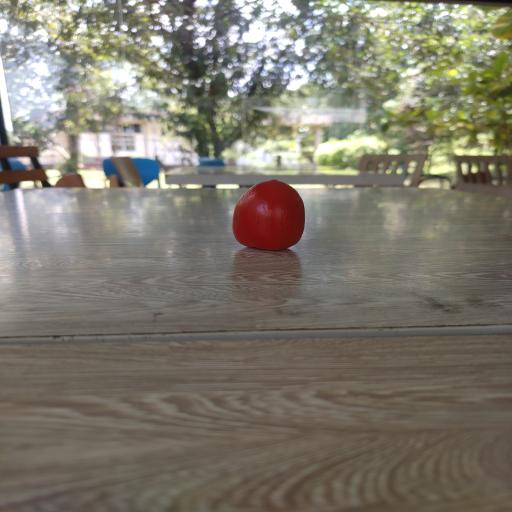spoiled: (232, 180, 305, 250)
